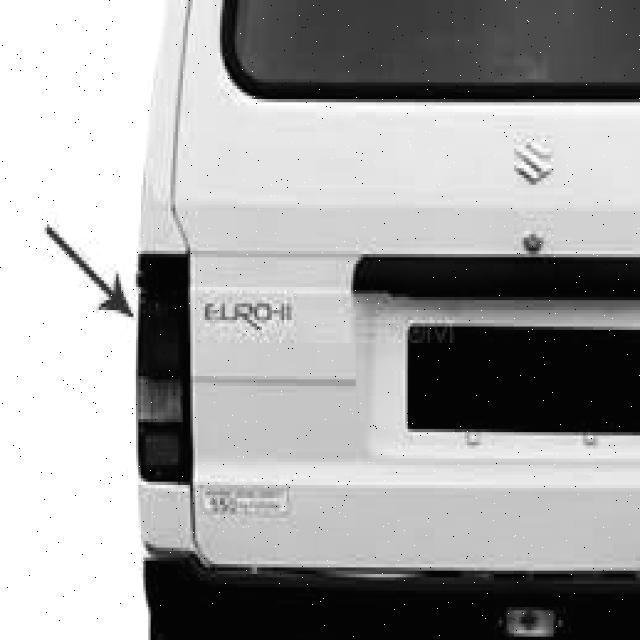Van: (128, 0, 640, 640)
